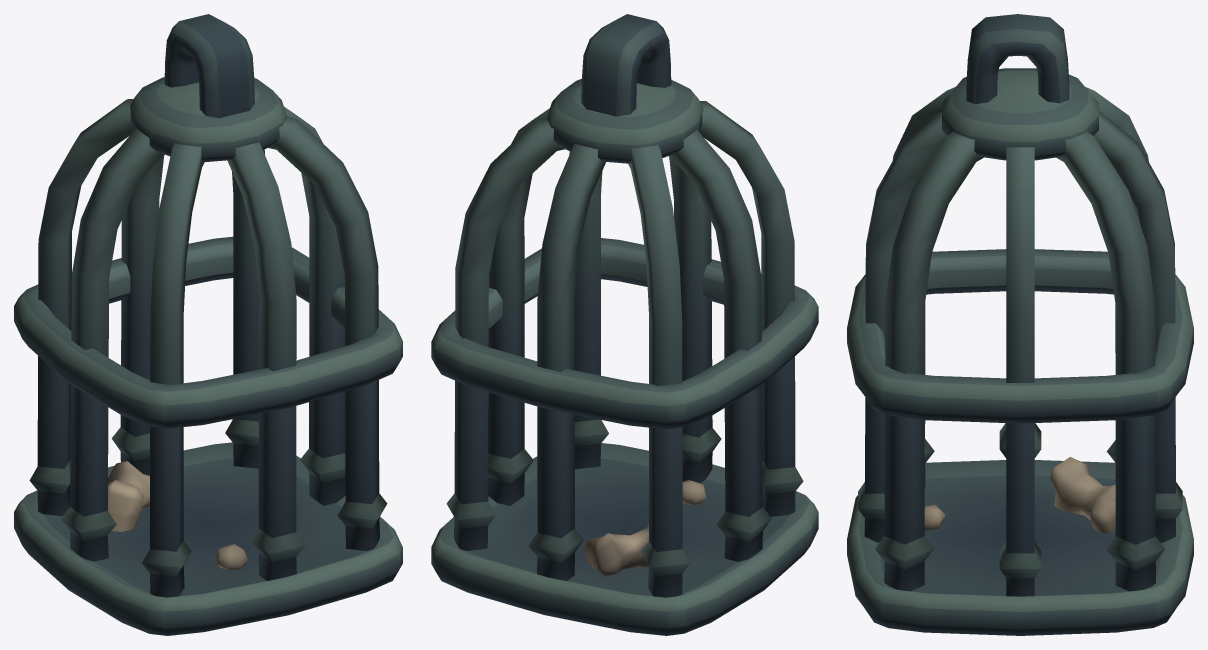
Rendered from cage_empty.fbx.
3 renders of one model, left to right at view 1: azimuth 30°, elevation 25°; view 2: azimuth 150°, elevation 25°; view 3: azimuth 270°, elevation 25°, orthographic. The views are drawn at different scales.
Parts seen in each view (by area): view 1: cage_empty; view 2: cage_empty; view 3: cage_empty.
Part boxes in pixels (x1,y1,x2,y2): cage_empty: [14, 14, 402, 635]; cage_empty: [431, 14, 818, 635]; cage_empty: [847, 14, 1193, 635].
Bounding box in the file's own units: 104 × 180 × 104.
Materials: 1 (1 with a texture image).
